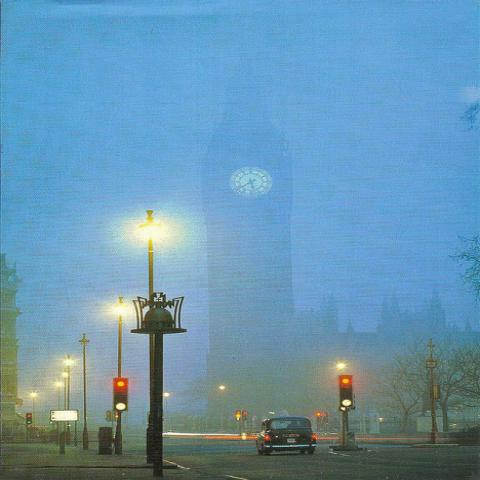car: (255, 417, 315, 456)
